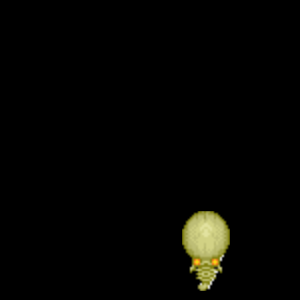Enemy: (182, 211, 230, 291)
